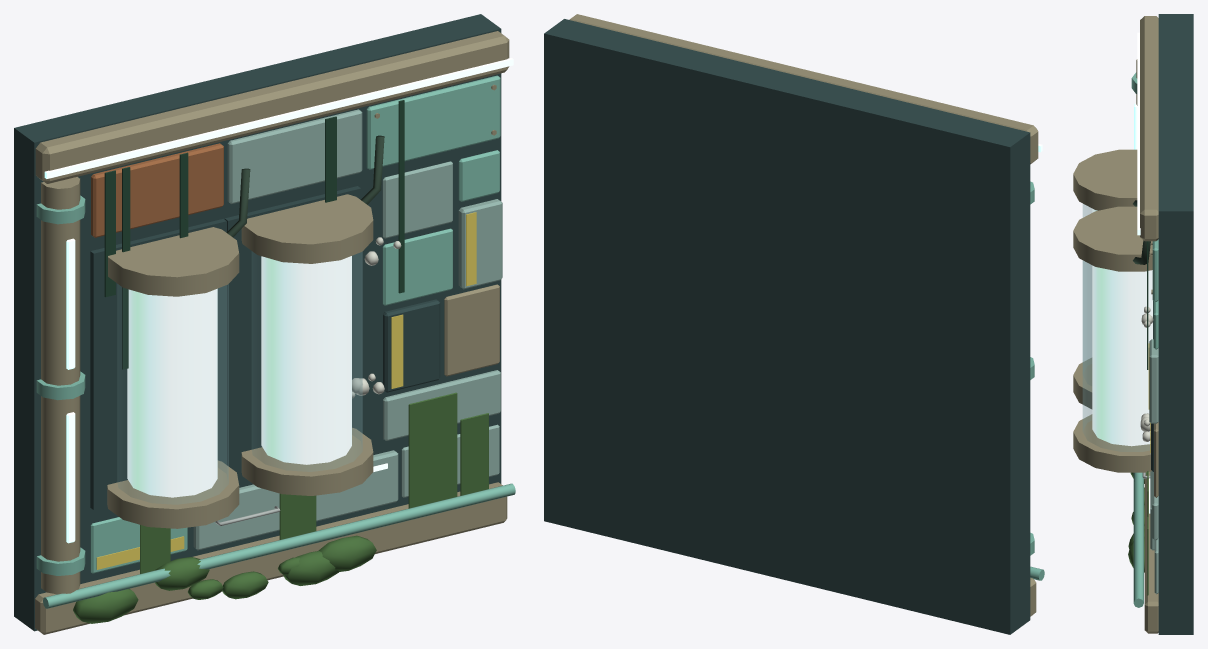
The model's file is wall_dr_tank.glb.
The picture shows the model from 3 angles, left to right: view 1: azimuth 30°, elevation 25°; view 2: azimuth 150°, elevation 25°; view 3: azimuth 270°, elevation 25°; orthographic projection. The views are drawn at different scales.
Parts seen in each view (by area): view 1: wall_dr_tank; view 2: wall_dr_tank; view 3: wall_dr_tank.
Boxes of the visible parts, x1=… form: wall_dr_tank: x1=14, y1=14, x2=515, y2=634; wall_dr_tank: x1=544, y1=14, x2=1044, y2=634; wall_dr_tank: x1=1073, y1=14, x2=1193, y2=634.
Bounding box in the file's own units: 4 × 4.08 × 1.03.
